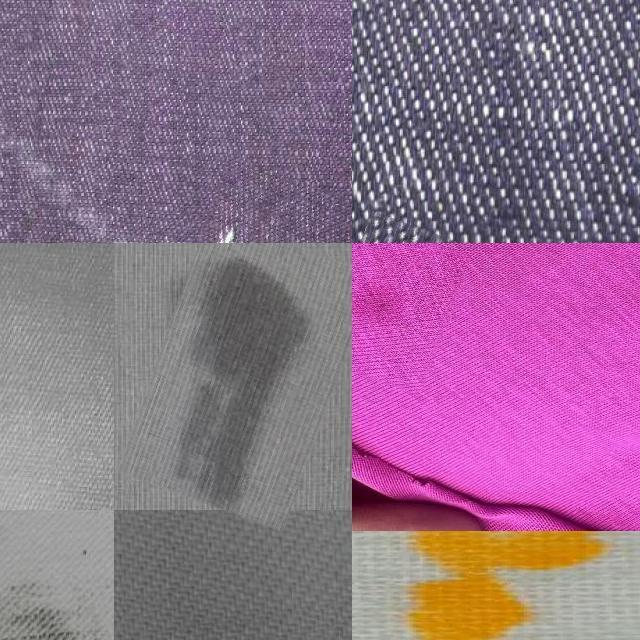Thread_other: (136, 243, 352, 521), (352, 531, 640, 640), (352, 243, 460, 387)
stains: (194, 174, 352, 243)
